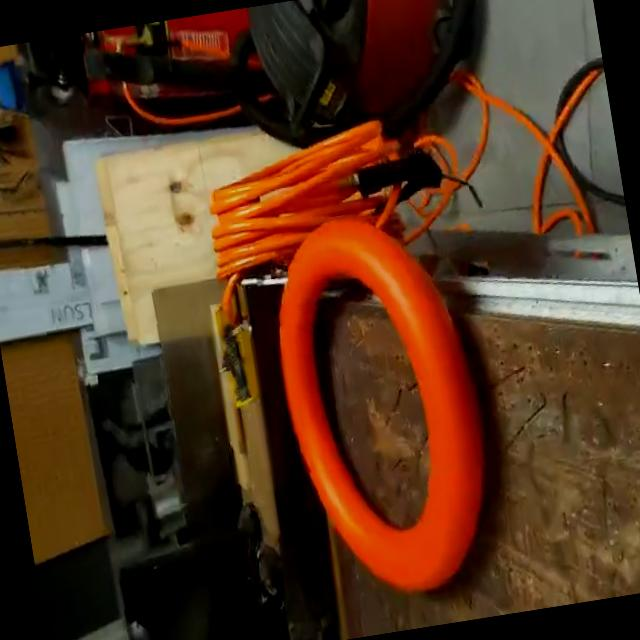note: (255, 194, 510, 613)
